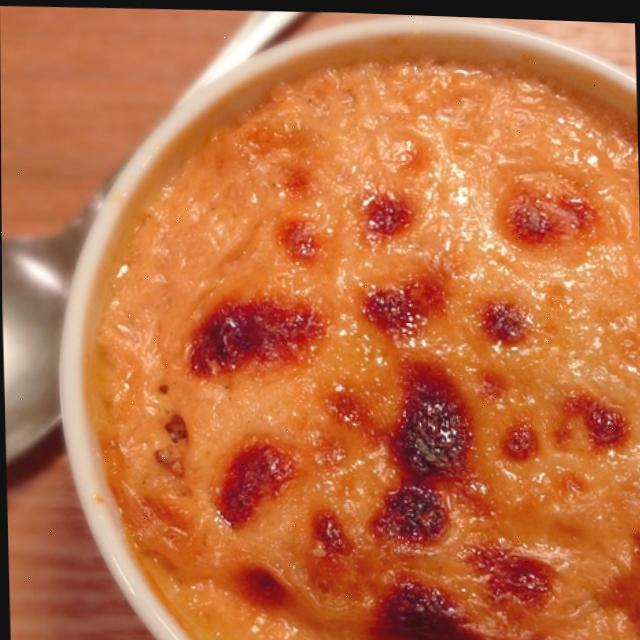米饭主食: (52, 7, 640, 635)
